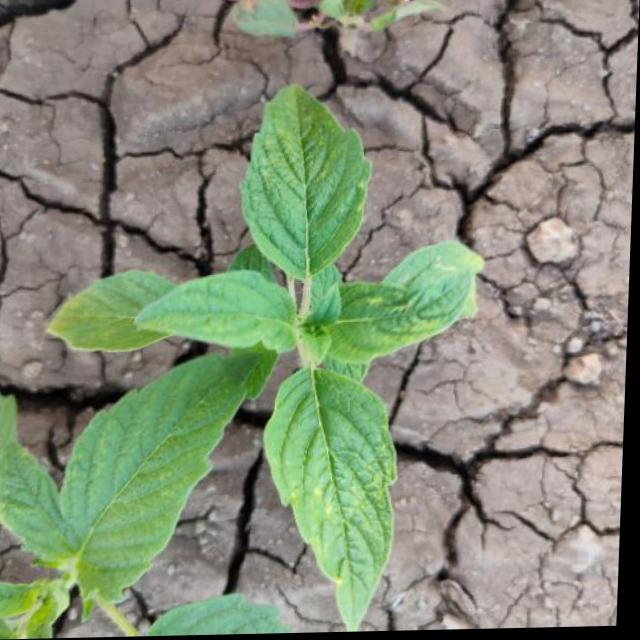crop: (39, 78, 494, 639), (0, 343, 307, 640)
